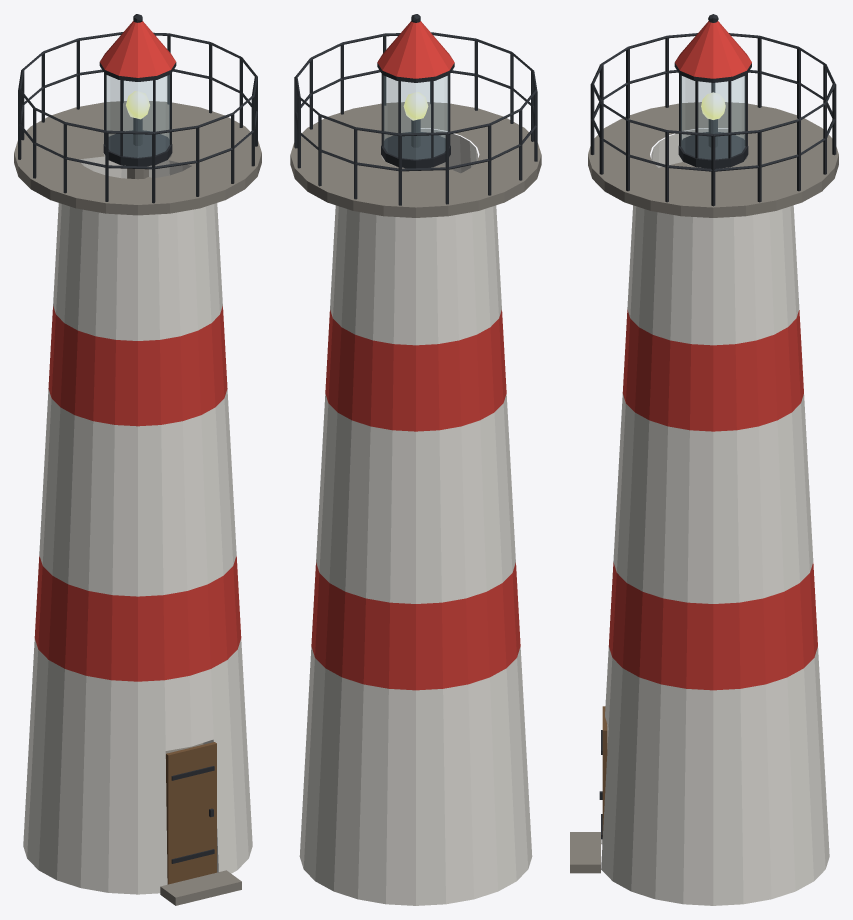
The model's file is lighthouse.glb.
3 renders of one model, left to right at view 1: azimuth 30°, elevation 25°; view 2: azimuth 150°, elevation 25°; view 3: azimuth 270°, elevation 25°, orthographic.
Parts seen in each view (by area): view 1: Lighthouse, Lighthouse_Gallery, Lighthouse_Lamp, Lighthouse_Door; view 2: Lighthouse, Lighthouse_Gallery, Lighthouse_Lamp; view 3: Lighthouse, Lighthouse_Gallery, Lighthouse_Lamp, Lighthouse_Door.
Boxes of the visible parts, x1,y1,x2,y2 form: Lighthouse: (23,153,252,905); Lighthouse_Gallery: (14,32,261,215); Lighthouse_Lamp: (99,14,176,166); Lighthouse_Door: (166,742,216,884); Lighthouse: (299,128,532,905); Lighthouse_Gallery: (290,32,541,217); Lighthouse_Lamp: (377,14,454,168); Lighthouse: (570,128,829,905); Lighthouse_Gallery: (588,33,838,217); Lighthouse_Lamp: (674,14,751,168); Lighthouse_Door: (599,706,607,839).
Size of the model in its own units: 3.24 by 12 by 3.47.
